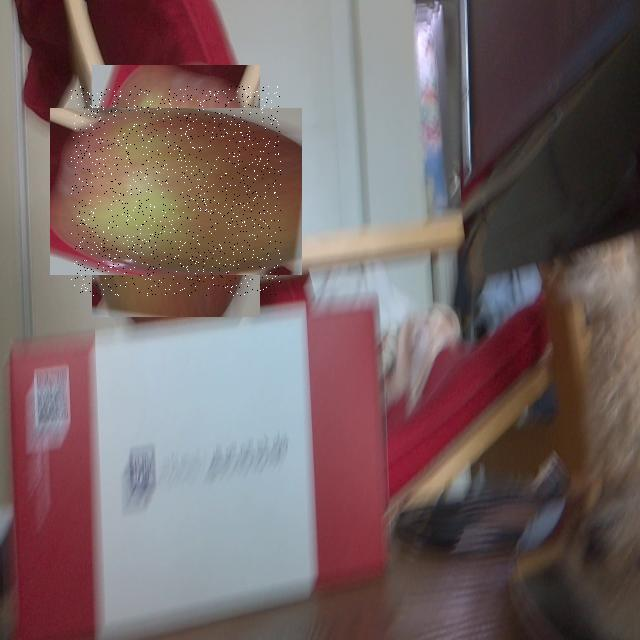apple: (71, 86, 281, 296)
